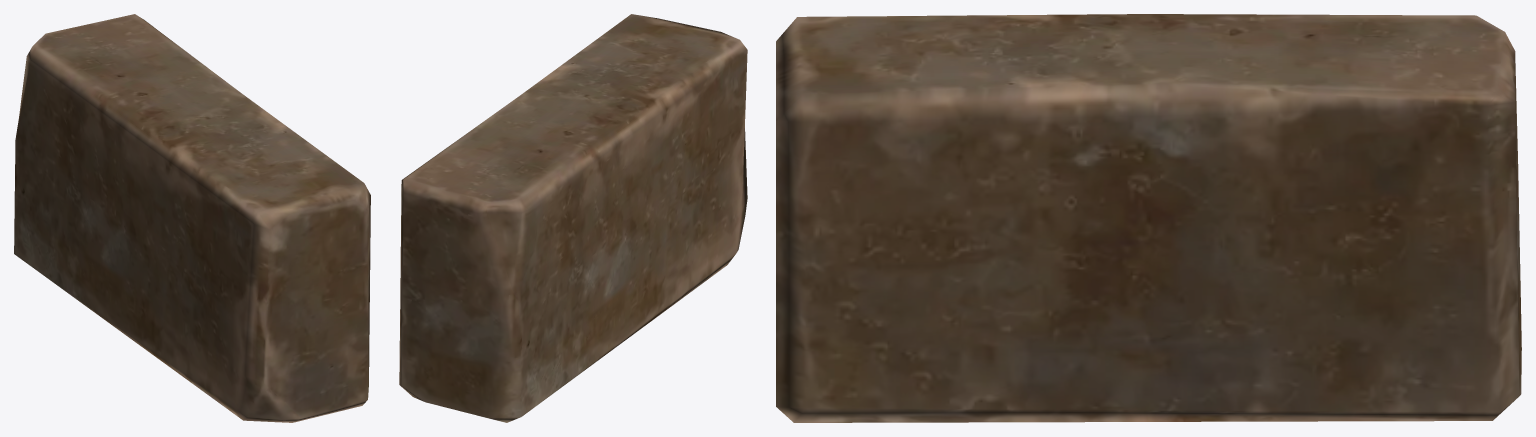
3 views of the same model, side by side, from view 1: azimuth 30°, elevation 25°; view 2: azimuth 150°, elevation 25°; view 3: azimuth 270°, elevation 25° (orthographic). The views are drawn at different scales.
Visible parts, largest first — view 1: SM_DK_Brick_05_LOD0; view 2: SM_DK_Brick_05_LOD0; view 3: SM_DK_Brick_05_LOD0.
Boxes of the visible parts, left/top/right/bottom form: SM_DK_Brick_05_LOD0: left=14, top=14, right=370, bottom=422; SM_DK_Brick_05_LOD0: left=399, top=14, right=747, bottom=422; SM_DK_Brick_05_LOD0: left=776, top=14, right=1521, bottom=422.
Size of the model in its own units: 0.7975 by 1.35 by 2.69.
Materials: 1 (1 with a texture image).
